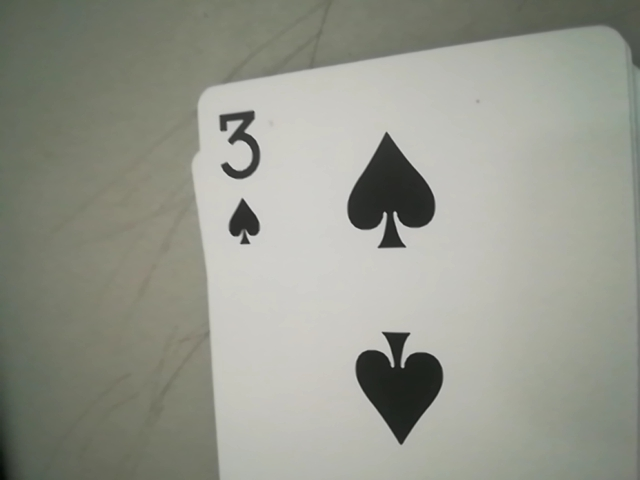ht 3: (198, 106, 294, 258)
